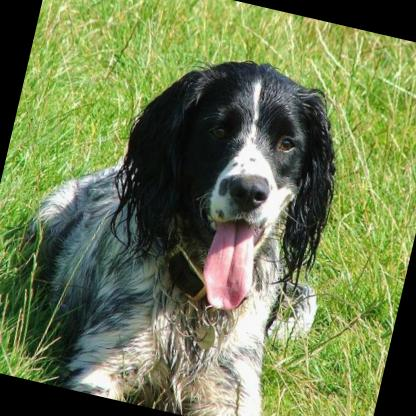English_springer: (0, 14, 369, 416)
